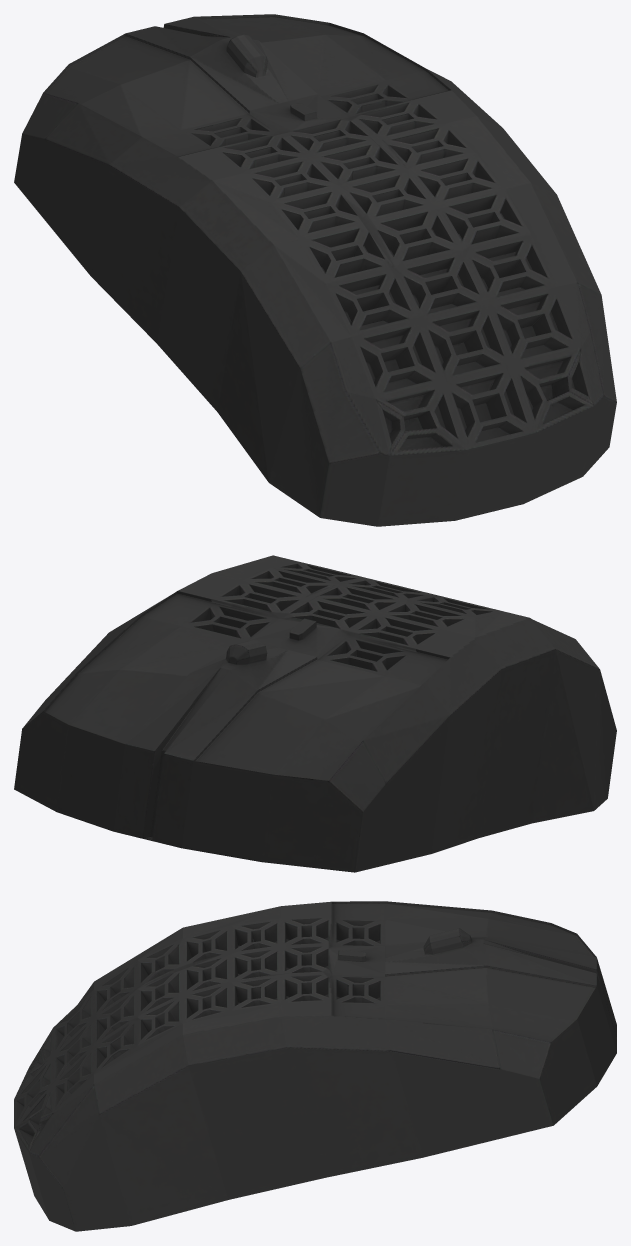
The model's file is mouse.glb.
3 views of the same model, one above another, from view 1: azimuth 30°, elevation 25°; view 2: azimuth 150°, elevation 25°; view 3: azimuth 270°, elevation 25° (orthographic). The views are drawn at different scales.
Parts seen in each view (by area): view 1: Mouse; view 2: Mouse; view 3: Mouse.
Part boxes in pixels (box(x1,y1,x2,y2)): Mouse: box(14, 14, 616, 526); Mouse: box(14, 555, 616, 872); Mouse: box(14, 901, 616, 1231).
Size of the model in its own units: 0.0607 by 0.05 by 0.1086.
Materials: 1 (1 with a texture image).
